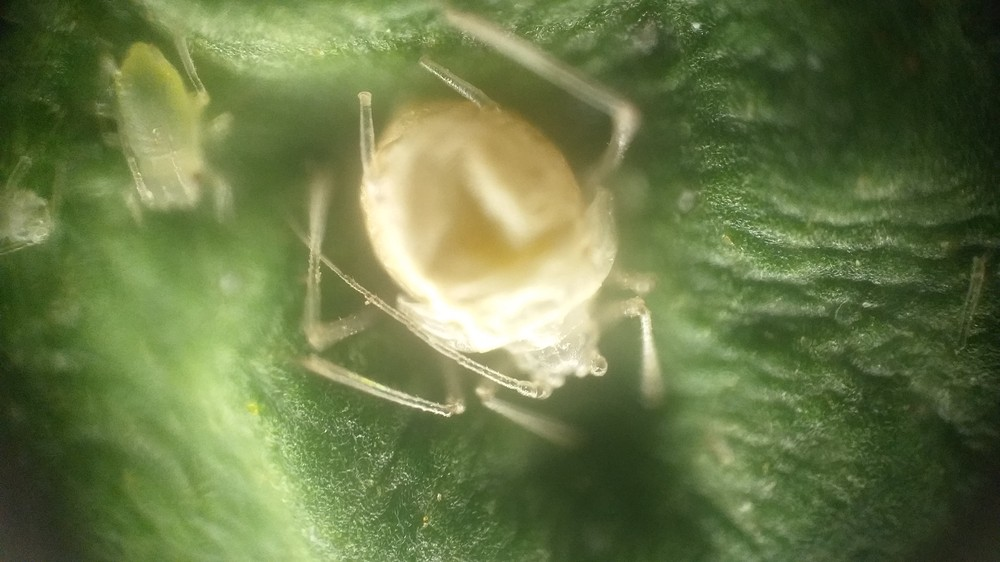Pulgon: (284, 23, 689, 461), (74, 31, 258, 235)
